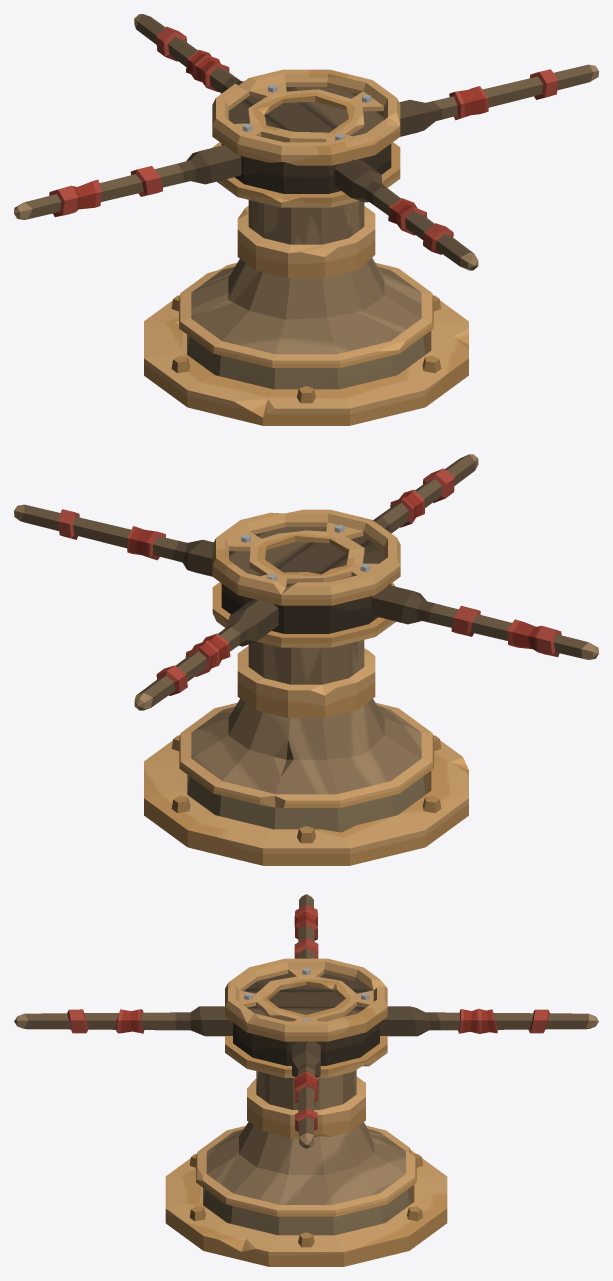
Rendered from SM_Veh_Capstan_01.fbx.
3 views of the same model, one above another, from view 1: azimuth 30°, elevation 25°; view 2: azimuth 150°, elevation 25°; view 3: azimuth 270°, elevation 25° (orthographic). The views are drawn at different scales.
Visible parts, largest first — view 1: SM_Veh_Capstan_01; view 2: SM_Veh_Capstan_01; view 3: SM_Veh_Capstan_01.
Boxes of the visible parts, <box> form: SM_Veh_Capstan_01: <box>14,14,598,425</box>; SM_Veh_Capstan_01: <box>14,454,598,865</box>; SM_Veh_Capstan_01: <box>14,894,598,1266</box>.
Bounding box in the file's own units: 286 × 116 × 286.
